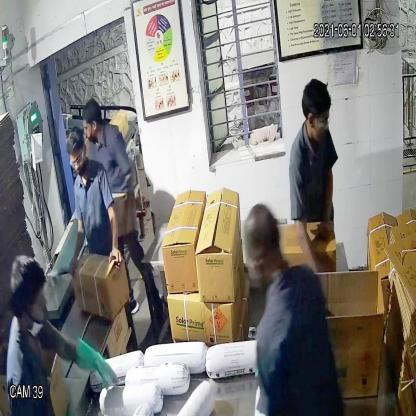goggles: (66, 150, 91, 172)
